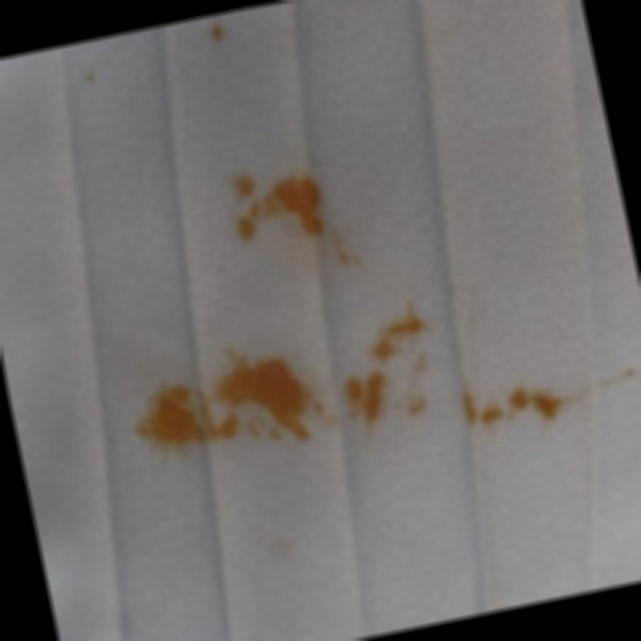kimchi: (114, 263, 641, 515), (210, 131, 372, 303), (195, 13, 237, 53), (74, 64, 107, 96)
